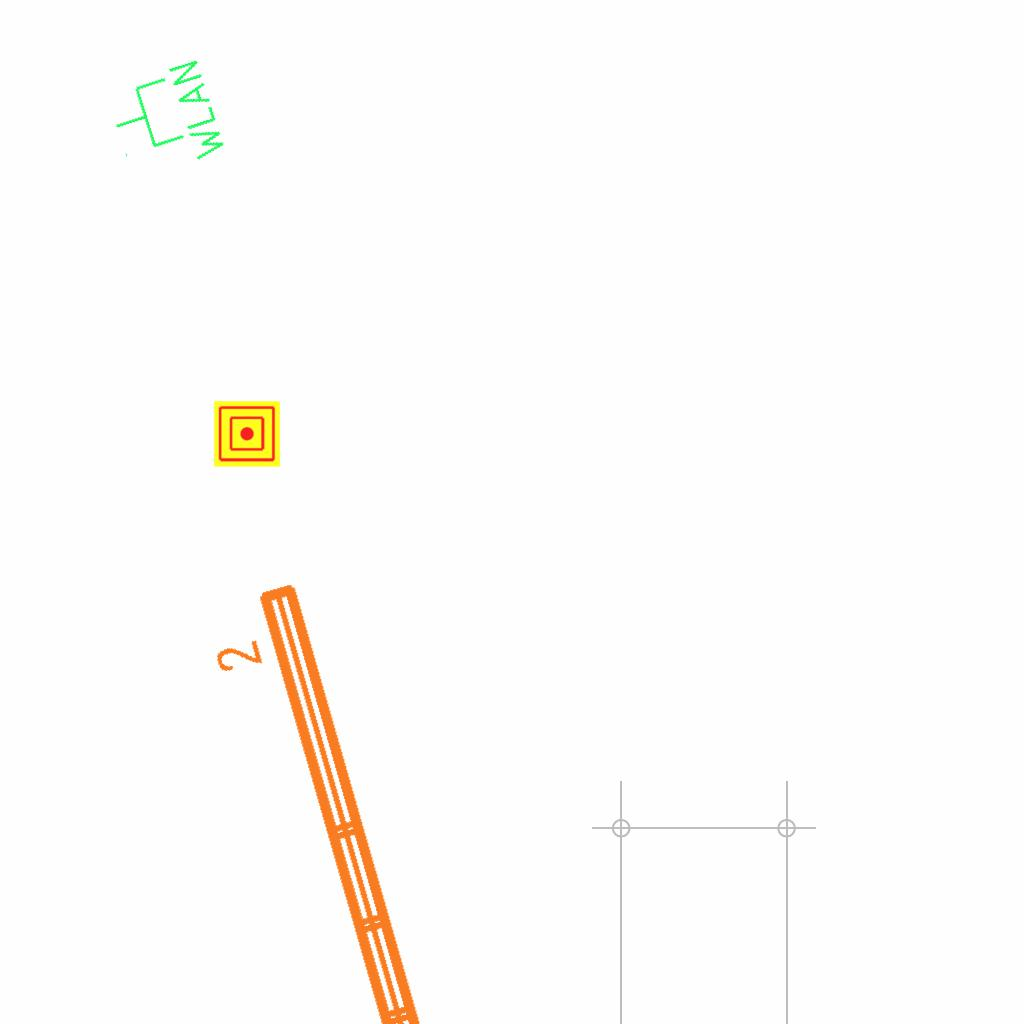Ambulanz_Pendelleuchte_LED: (195, 571, 517, 1024)
NAM-Nichtautomatischer_Melder: (214, 401, 280, 467)
WLAN: (100, 54, 232, 187)
